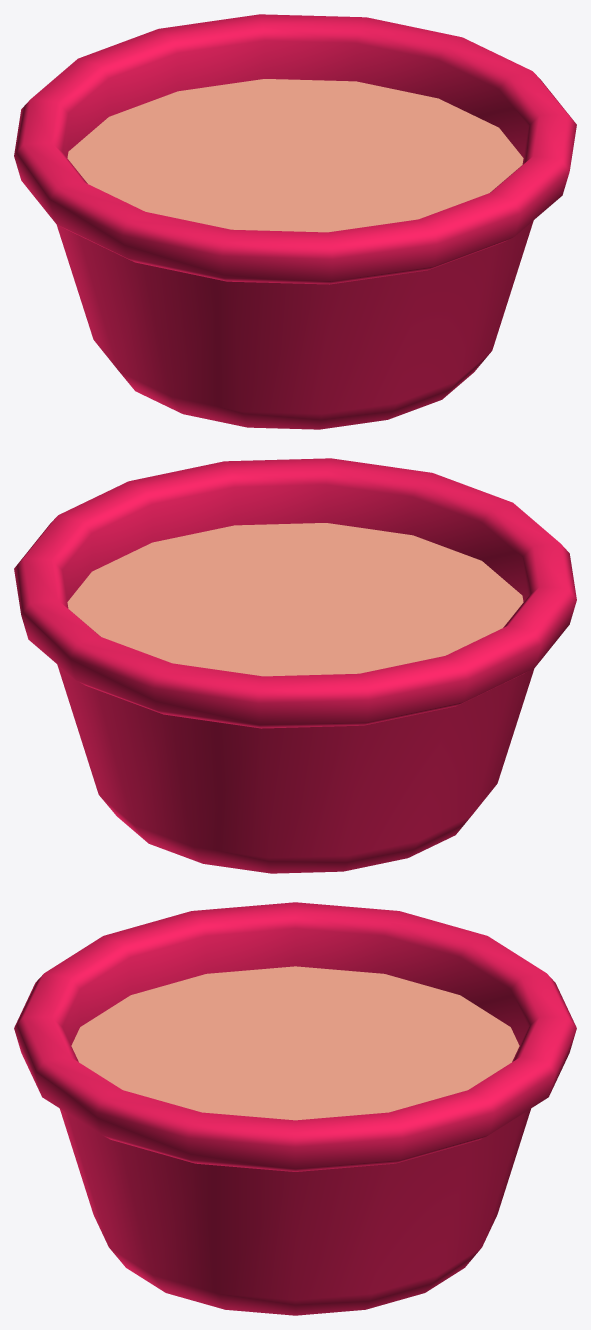
The model's file is Store_1_Ramekin_3.glb.
3 renders of one model, top to bottom at view 1: azimuth 30°, elevation 25°; view 2: azimuth 150°, elevation 25°; view 3: azimuth 270°, elevation 25°, orthographic.
Parts seen in each view (by area): view 1: Store_1_Ramekin_3; view 2: Store_1_Ramekin_3; view 3: Store_1_Ramekin_3.
Part boxes in pixels (x1,y1,x2,y2): Store_1_Ramekin_3: (14, 14, 576, 429); Store_1_Ramekin_3: (14, 458, 576, 873); Store_1_Ramekin_3: (14, 902, 576, 1315).
Bounding box in the file's own units: 0.1503 × 0.0678 × 0.1503.
1 material, 1 textured.
